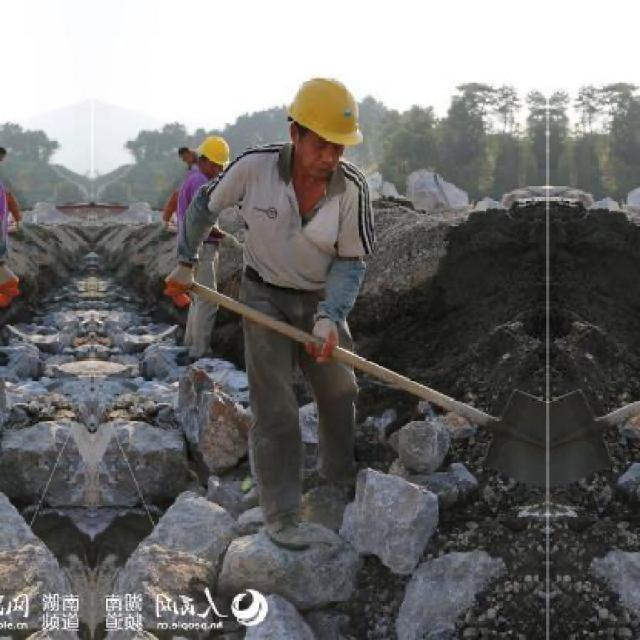helmet: (280, 63, 365, 186), (198, 131, 236, 180)
